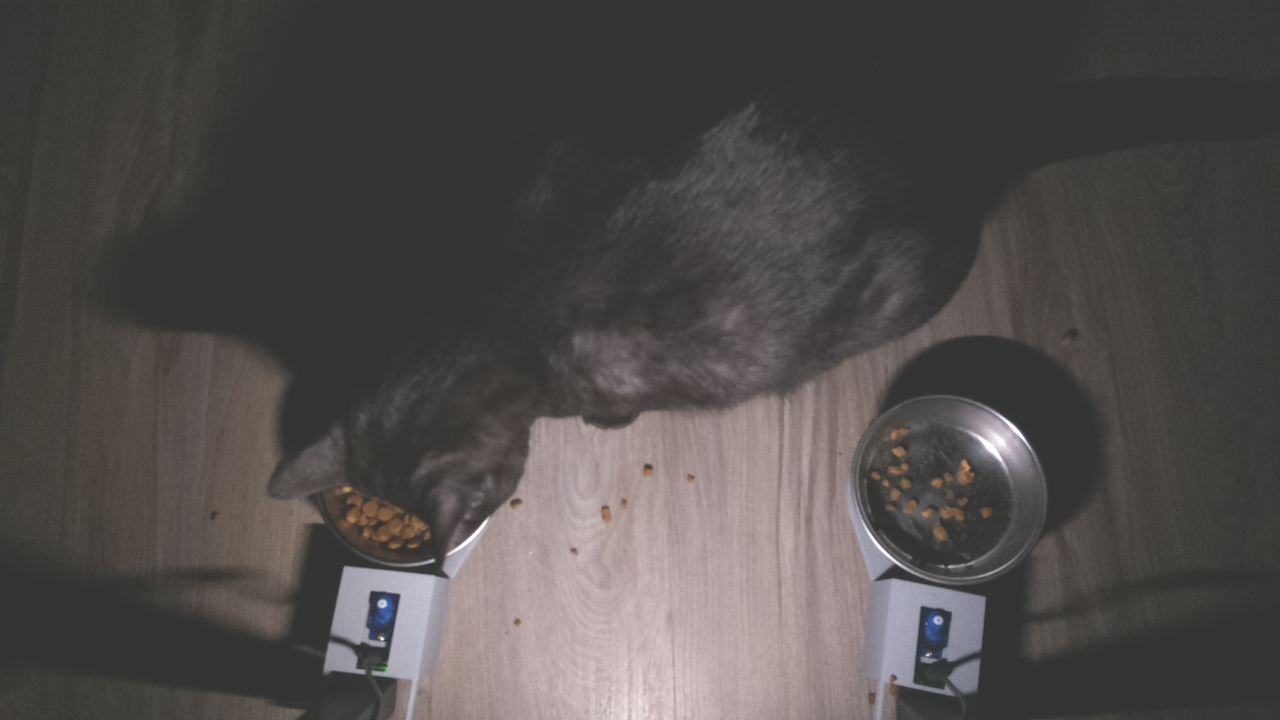open_bowl: (849, 391, 1055, 591)
saki_eating: (264, 333, 552, 584)
